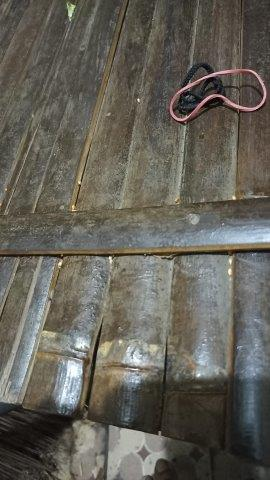karet: (169, 62, 267, 123)
